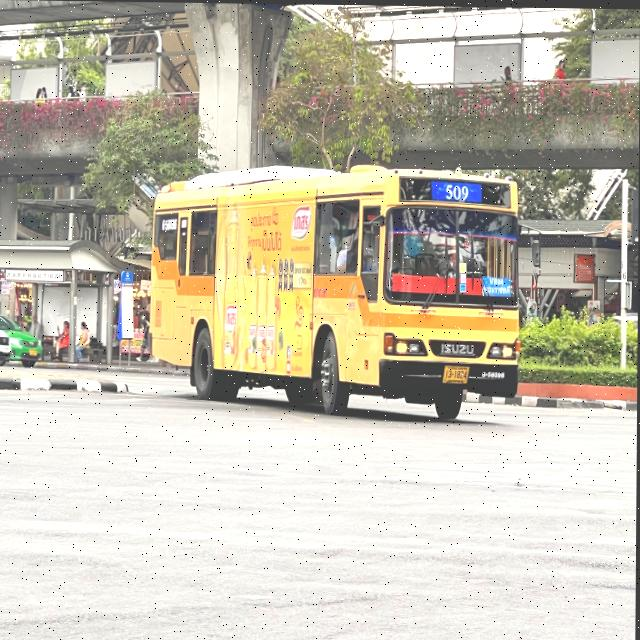BMTA-bus: (149, 162, 524, 423)
Bus-Line-Number: (441, 180, 474, 203)
Destination-Sign-Normal: (483, 274, 512, 297)
